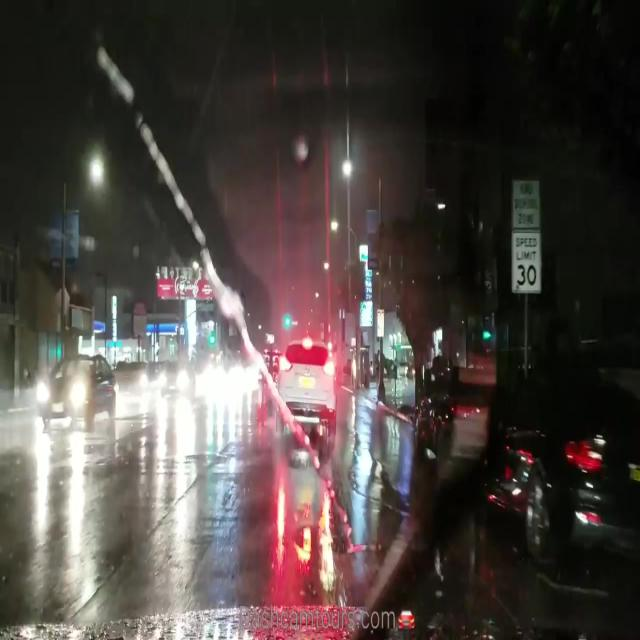Car: (276, 340, 338, 431), (38, 355, 116, 426), (160, 364, 197, 396)
